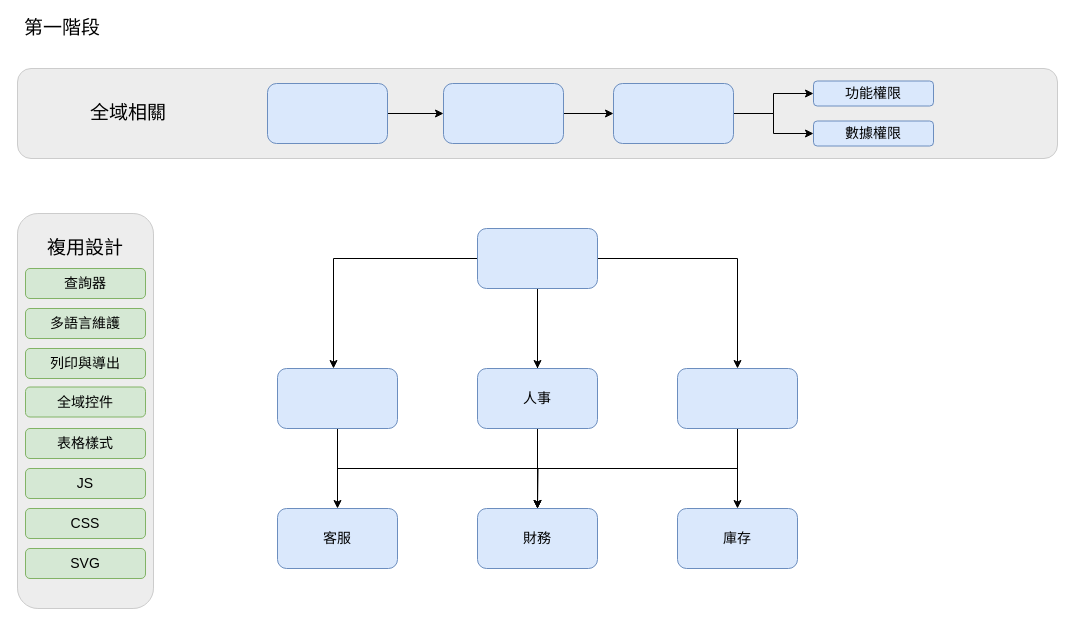
This 1075x626 diagram has some shape labels left out. The box of each missing label's shape, as (x1, y1, x2, y2) in pixels:
基本資料: (476, 228, 598, 288)
用戶參數: (442, 82, 564, 144)
系統參數: (266, 82, 388, 144)
角色權限: (612, 82, 734, 144)
進項: (676, 368, 798, 428)
銷售: (276, 368, 398, 428)
